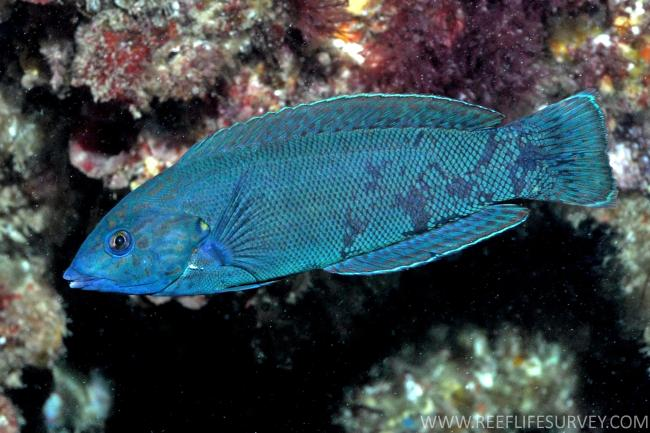fish: (62, 93, 619, 296)
